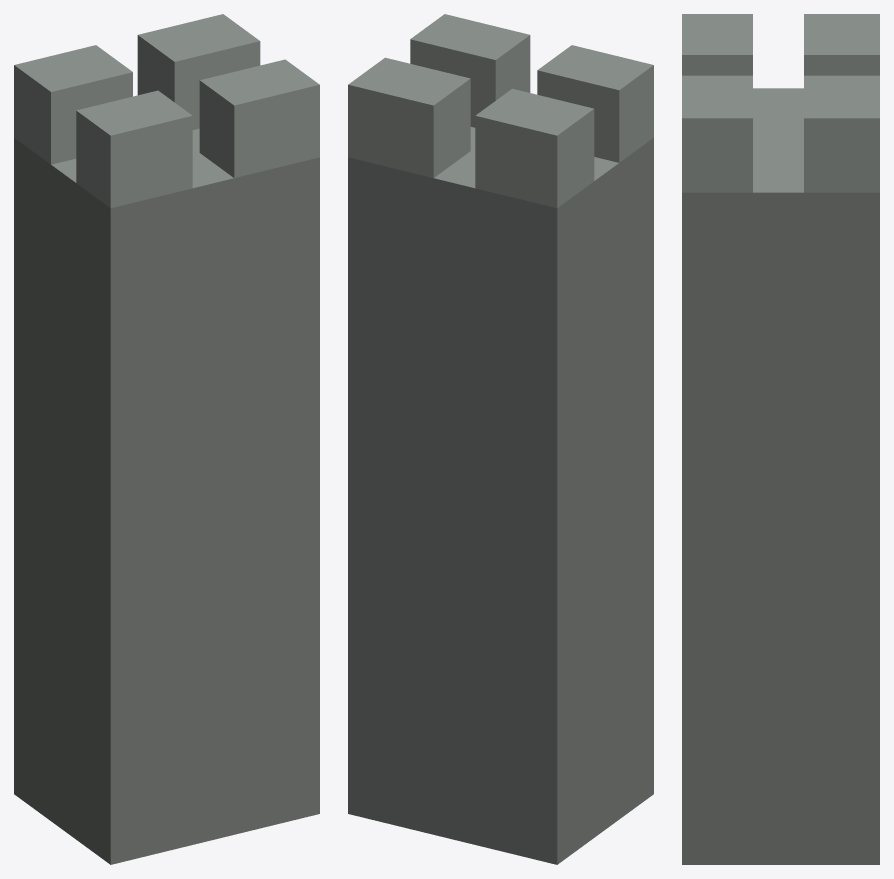
File: Torre.fbx
3 views of the same model, side by side, from view 1: azimuth 30°, elevation 25°; view 2: azimuth 150°, elevation 25°; view 3: azimuth 270°, elevation 25° (orthographic). The views are drawn at different scales.
Visible parts, largest first — view 1: Torre; view 2: Torre; view 3: Torre.
Part boxes in pixels (<box>): Torre: <box>14,14,319,864</box>; Torre: <box>348,14,653,864</box>; Torre: <box>682,14,879,864</box>.
Bounding box in the file's own units: 5 × 16.66 × 4.
